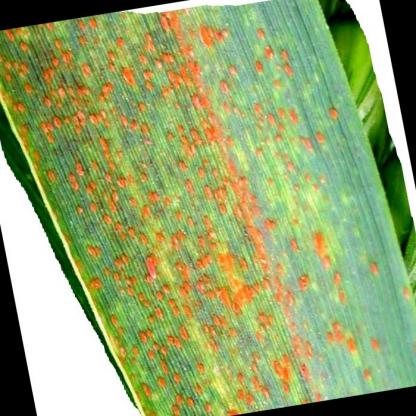Wheat Brown-rust: (0, 33, 311, 98), (48, 158, 373, 205), (110, 298, 393, 346), (67, 211, 390, 248), (86, 256, 395, 291), (18, 103, 346, 135), (134, 356, 212, 406), (89, 139, 313, 155), (258, 356, 318, 400), (220, 356, 253, 409), (351, 359, 383, 387), (157, 13, 183, 31), (74, 19, 107, 31)
